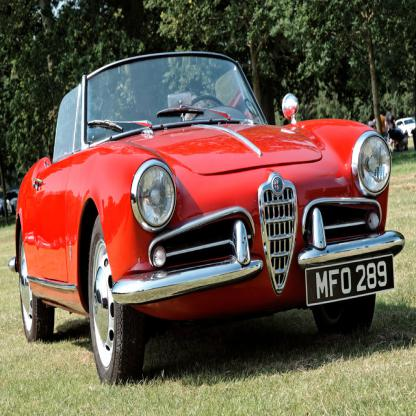Car: (8, 51, 406, 387), (394, 117, 415, 137)
